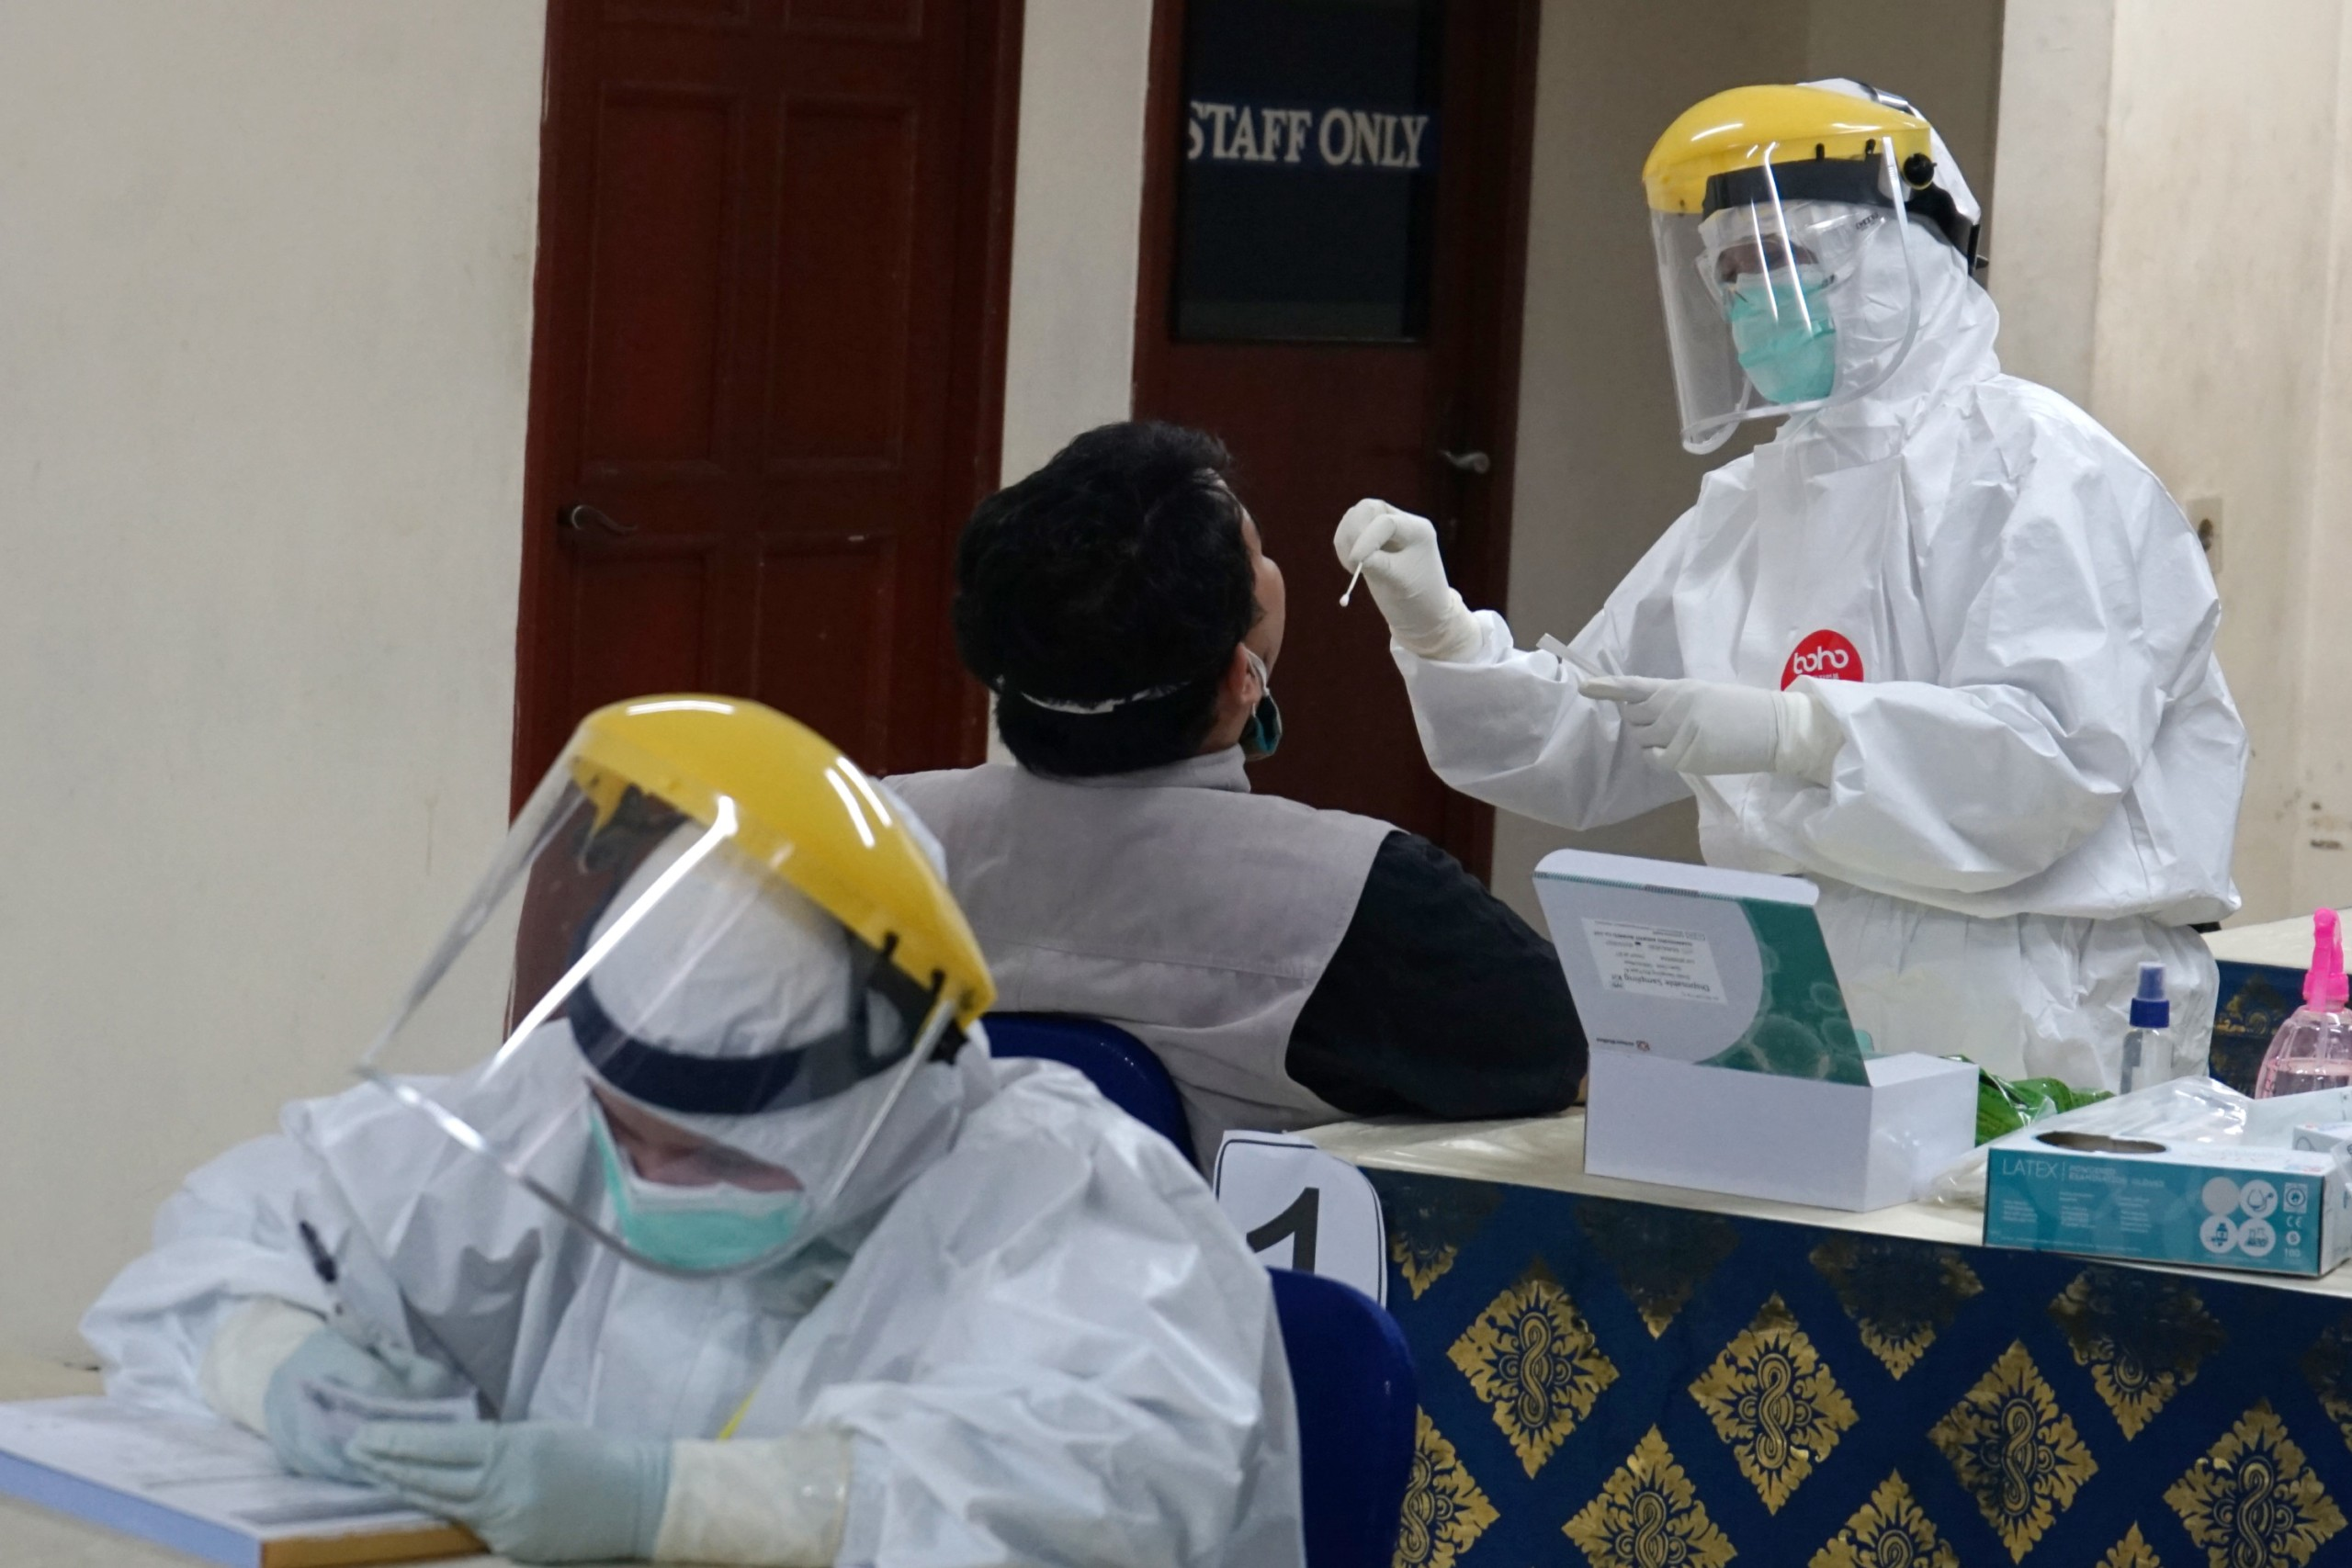Coverall: (70, 784, 1306, 1568), (1374, 135, 2268, 1161)
Face Shield: (323, 686, 990, 1286), (1625, 78, 1946, 467)
Gloves: (334, 1391, 673, 1563), (222, 1300, 472, 1497), (1577, 662, 1846, 795), (1327, 483, 1498, 682)
with_mask: (574, 1066, 815, 1290), (1708, 231, 1850, 412)
